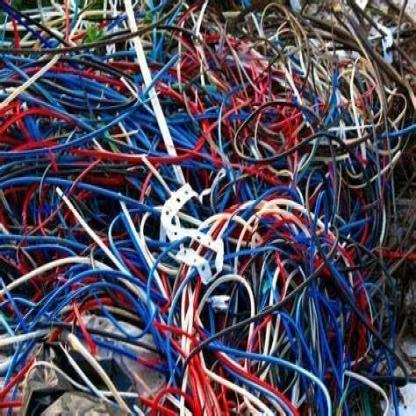wires: (1, 1, 415, 414)
